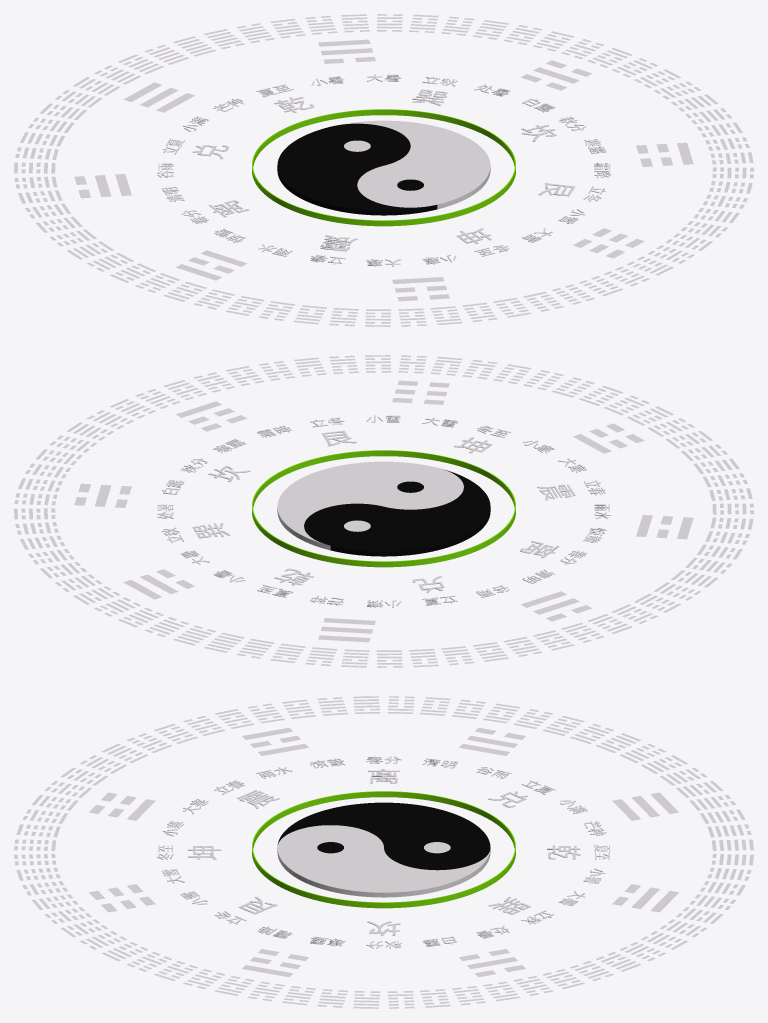
3 renders of one model, top to bottom at view 1: azimuth 30°, elevation 25°; view 2: azimuth 150°, elevation 25°; view 3: azimuth 270°, elevation 25°, orthographic.
Visible parts, largest first — view 1: 六十四卦符_41_贲, 物件_6, 物件_4, 八卦符_03_巽, 节气_寒露, 物件_7, 先天八卦_坎; view 2: 六十四卦符_41_贲, 物件_6, 物件_4, 八卦符_03_巽, 节气_寒露, 物件_7, 先天八卦_坎; view 3: 六十四卦符_41_贲, 物件_4, 物件_6, 八卦符_03_巽, 节气_寒露, 物件_7, 先天八卦_坎.
Part boxes in pixels (<box>): 六十四卦符_41_贲: <box>14,14,753,326</box>; 物件_6: <box>277,123,437,215</box>; 物件_4: <box>339,120,490,209</box>; 八卦符_03_巽: <box>74,39,693,301</box>; 节气_寒露: <box>157,74,610,266</box>; 物件_7: <box>252,109,515,226</box>; 先天八卦_坎: <box>192,89,574,251</box>; 六十四卦符_41_贲: <box>14,355,753,667</box>; 物件_6: <box>304,470,490,556</box>; 物件_4: <box>277,461,463,550</box>; 八卦符_03_巽: <box>74,380,693,642</box>; 节气_寒露: <box>157,415,610,607</box>; 物件_7: <box>252,450,515,567</box>; 先天八卦_坎: <box>192,430,575,592</box>; 六十四卦符_41_贲: <box>14,696,753,1008</box>; 物件_4: <box>277,825,490,897</box>; 物件_6: <box>277,802,490,870</box>; 八卦符_03_巽: <box>89,727,678,977</box>; 节气_寒露: <box>157,756,609,948</box>; 物件_7: <box>252,791,515,908</box>; 先天八卦_坎: <box>187,769,580,935</box>.
Bounding box in the file's own units: 2873 × 24.31 × 2873.
